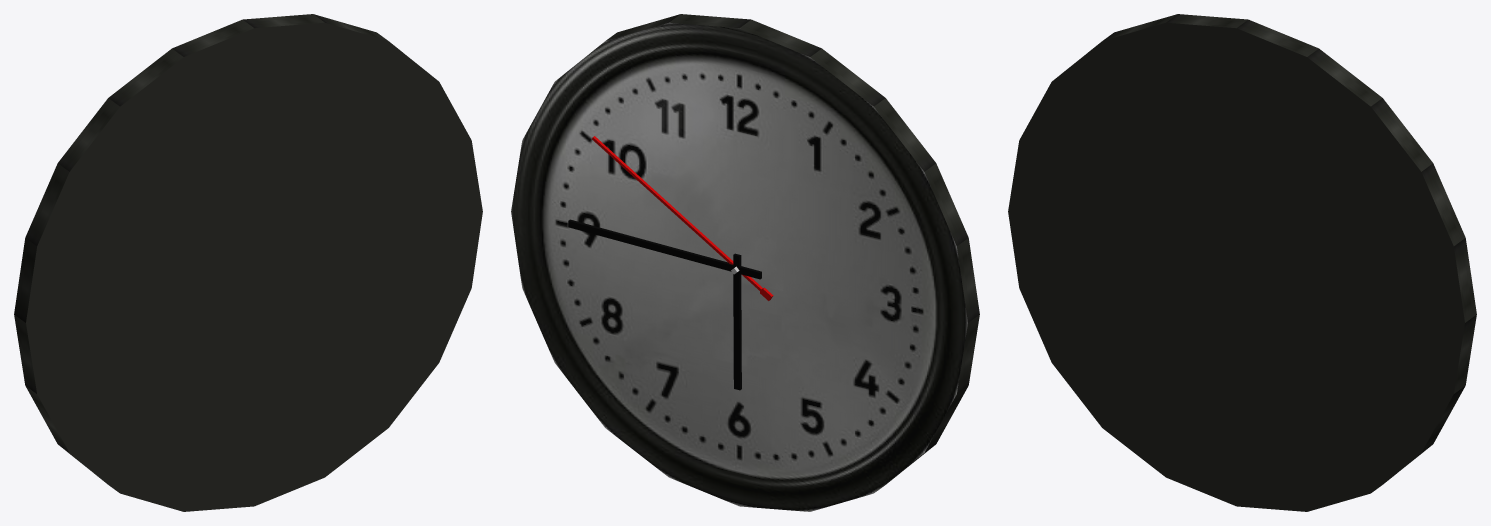
The model's file is Clock.fbx.
3 views of the same model, side by side, from view 1: azimuth 30°, elevation 25°; view 2: azimuth 150°, elevation 25°; view 3: azimuth 330°, elevation 25° (orthographic).
Visible parts, largest first — view 1: Clock; view 2: Clock, Minute_Hand, Hour, Second_Hand; view 3: Clock.
Part boxes in pixels (bbox=[...]): Clock: bbox=[14, 14, 482, 511]; Clock: bbox=[511, 14, 979, 511]; Minute_Hand: bbox=[568, 219, 761, 279]; Hour: bbox=[733, 253, 741, 390]; Second_Hand: bbox=[592, 136, 773, 300]; Clock: bbox=[1008, 14, 1476, 511].
Size of the model in its own units: 0.3343 by 0.3343 by 0.0222.
